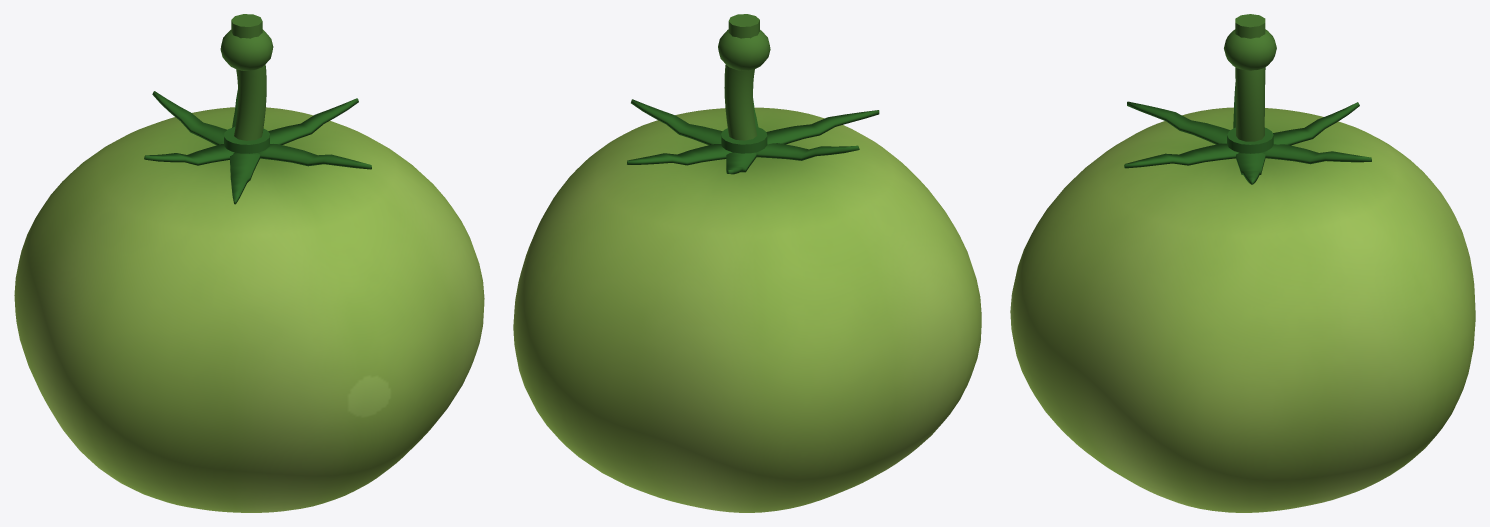
Rendered from tomato_green.glb.
The picture shows the model from 3 angles, left to right: view 1: azimuth 30°, elevation 25°; view 2: azimuth 150°, elevation 25°; view 3: azimuth 270°, elevation 25°; orthographic projection.
Parts seen in each view (by area): view 1: tomato_green, calyx, pedicel, knuckle, calyx_hub, proximal_stub; view 2: tomato_green, calyx, pedicel, knuckle, calyx_hub, proximal_stub; view 3: tomato_green, calyx, pedicel, knuckle, calyx_hub, proximal_stub.
Boxes of the visible parts, box(x1,y1,x2,y2) form: tomato_green: box(14, 107, 484, 512); calyx: box(144, 90, 371, 204); pedicel: box(234, 64, 266, 140); knuckle: box(220, 29, 273, 70); calyx_hub: box(224, 126, 269, 153); proximal_stub: box(231, 14, 262, 38); tomato_green: box(513, 107, 981, 512); calyx: box(627, 98, 879, 174); pedicel: box(724, 64, 757, 140); knuckle: box(718, 29, 770, 70); calyx_hub: box(721, 126, 767, 153); proximal_stub: box(728, 14, 759, 38); tomato_green: box(1010, 107, 1475, 512); calyx: box(1124, 82, 1371, 184); pedicel: box(1235, 67, 1265, 141); knuckle: box(1224, 29, 1276, 70); calyx_hub: box(1227, 127, 1273, 153); proximal_stub: box(1235, 14, 1265, 38).
Bounding box in the file's own units: 0.0566 × 0.062 × 0.056.
Materials: 3 (1 with a texture image).
